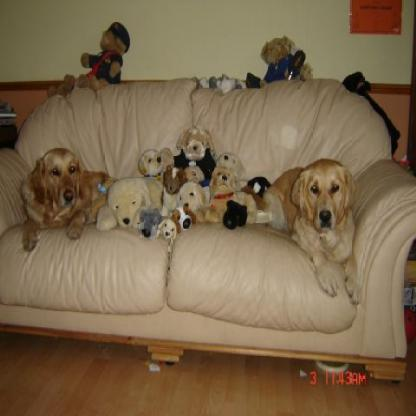dog: (261, 157, 361, 305), (17, 147, 118, 252)
sofa: (0, 75, 415, 387)
